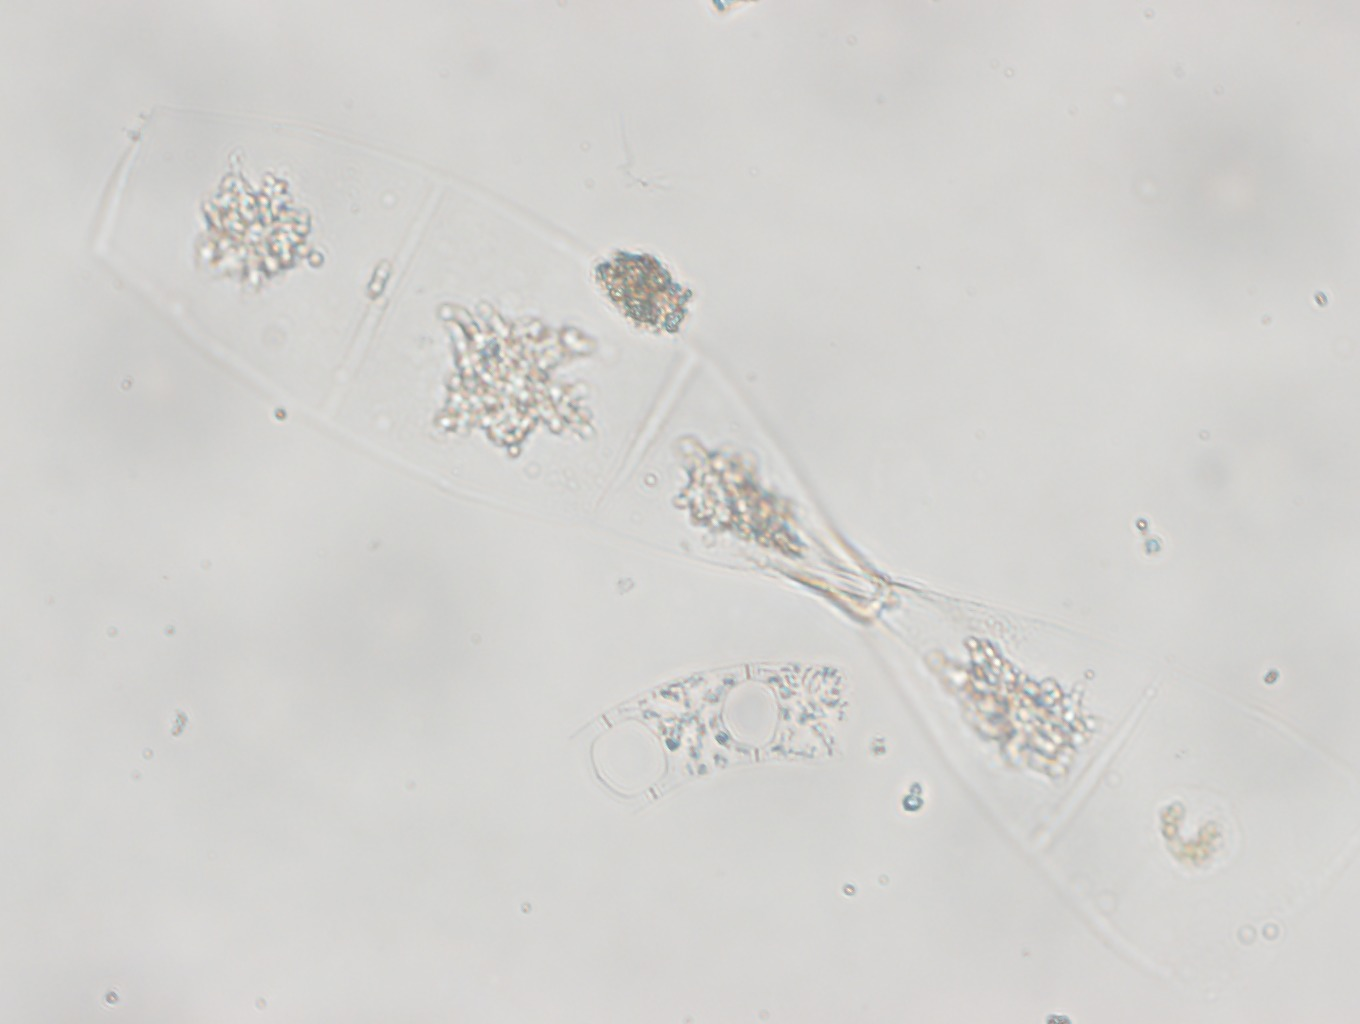eucampia: (562, 640, 854, 812)
helicotheca: (86, 93, 1360, 1002)
